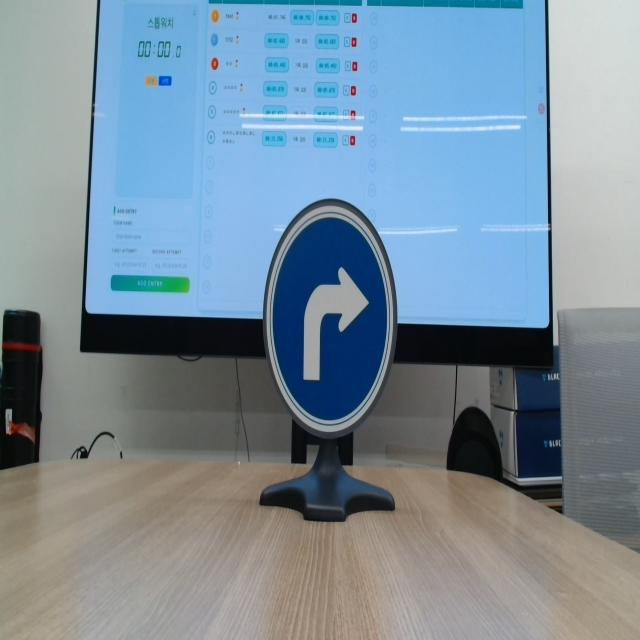right_dierection: (254, 176, 404, 440)
